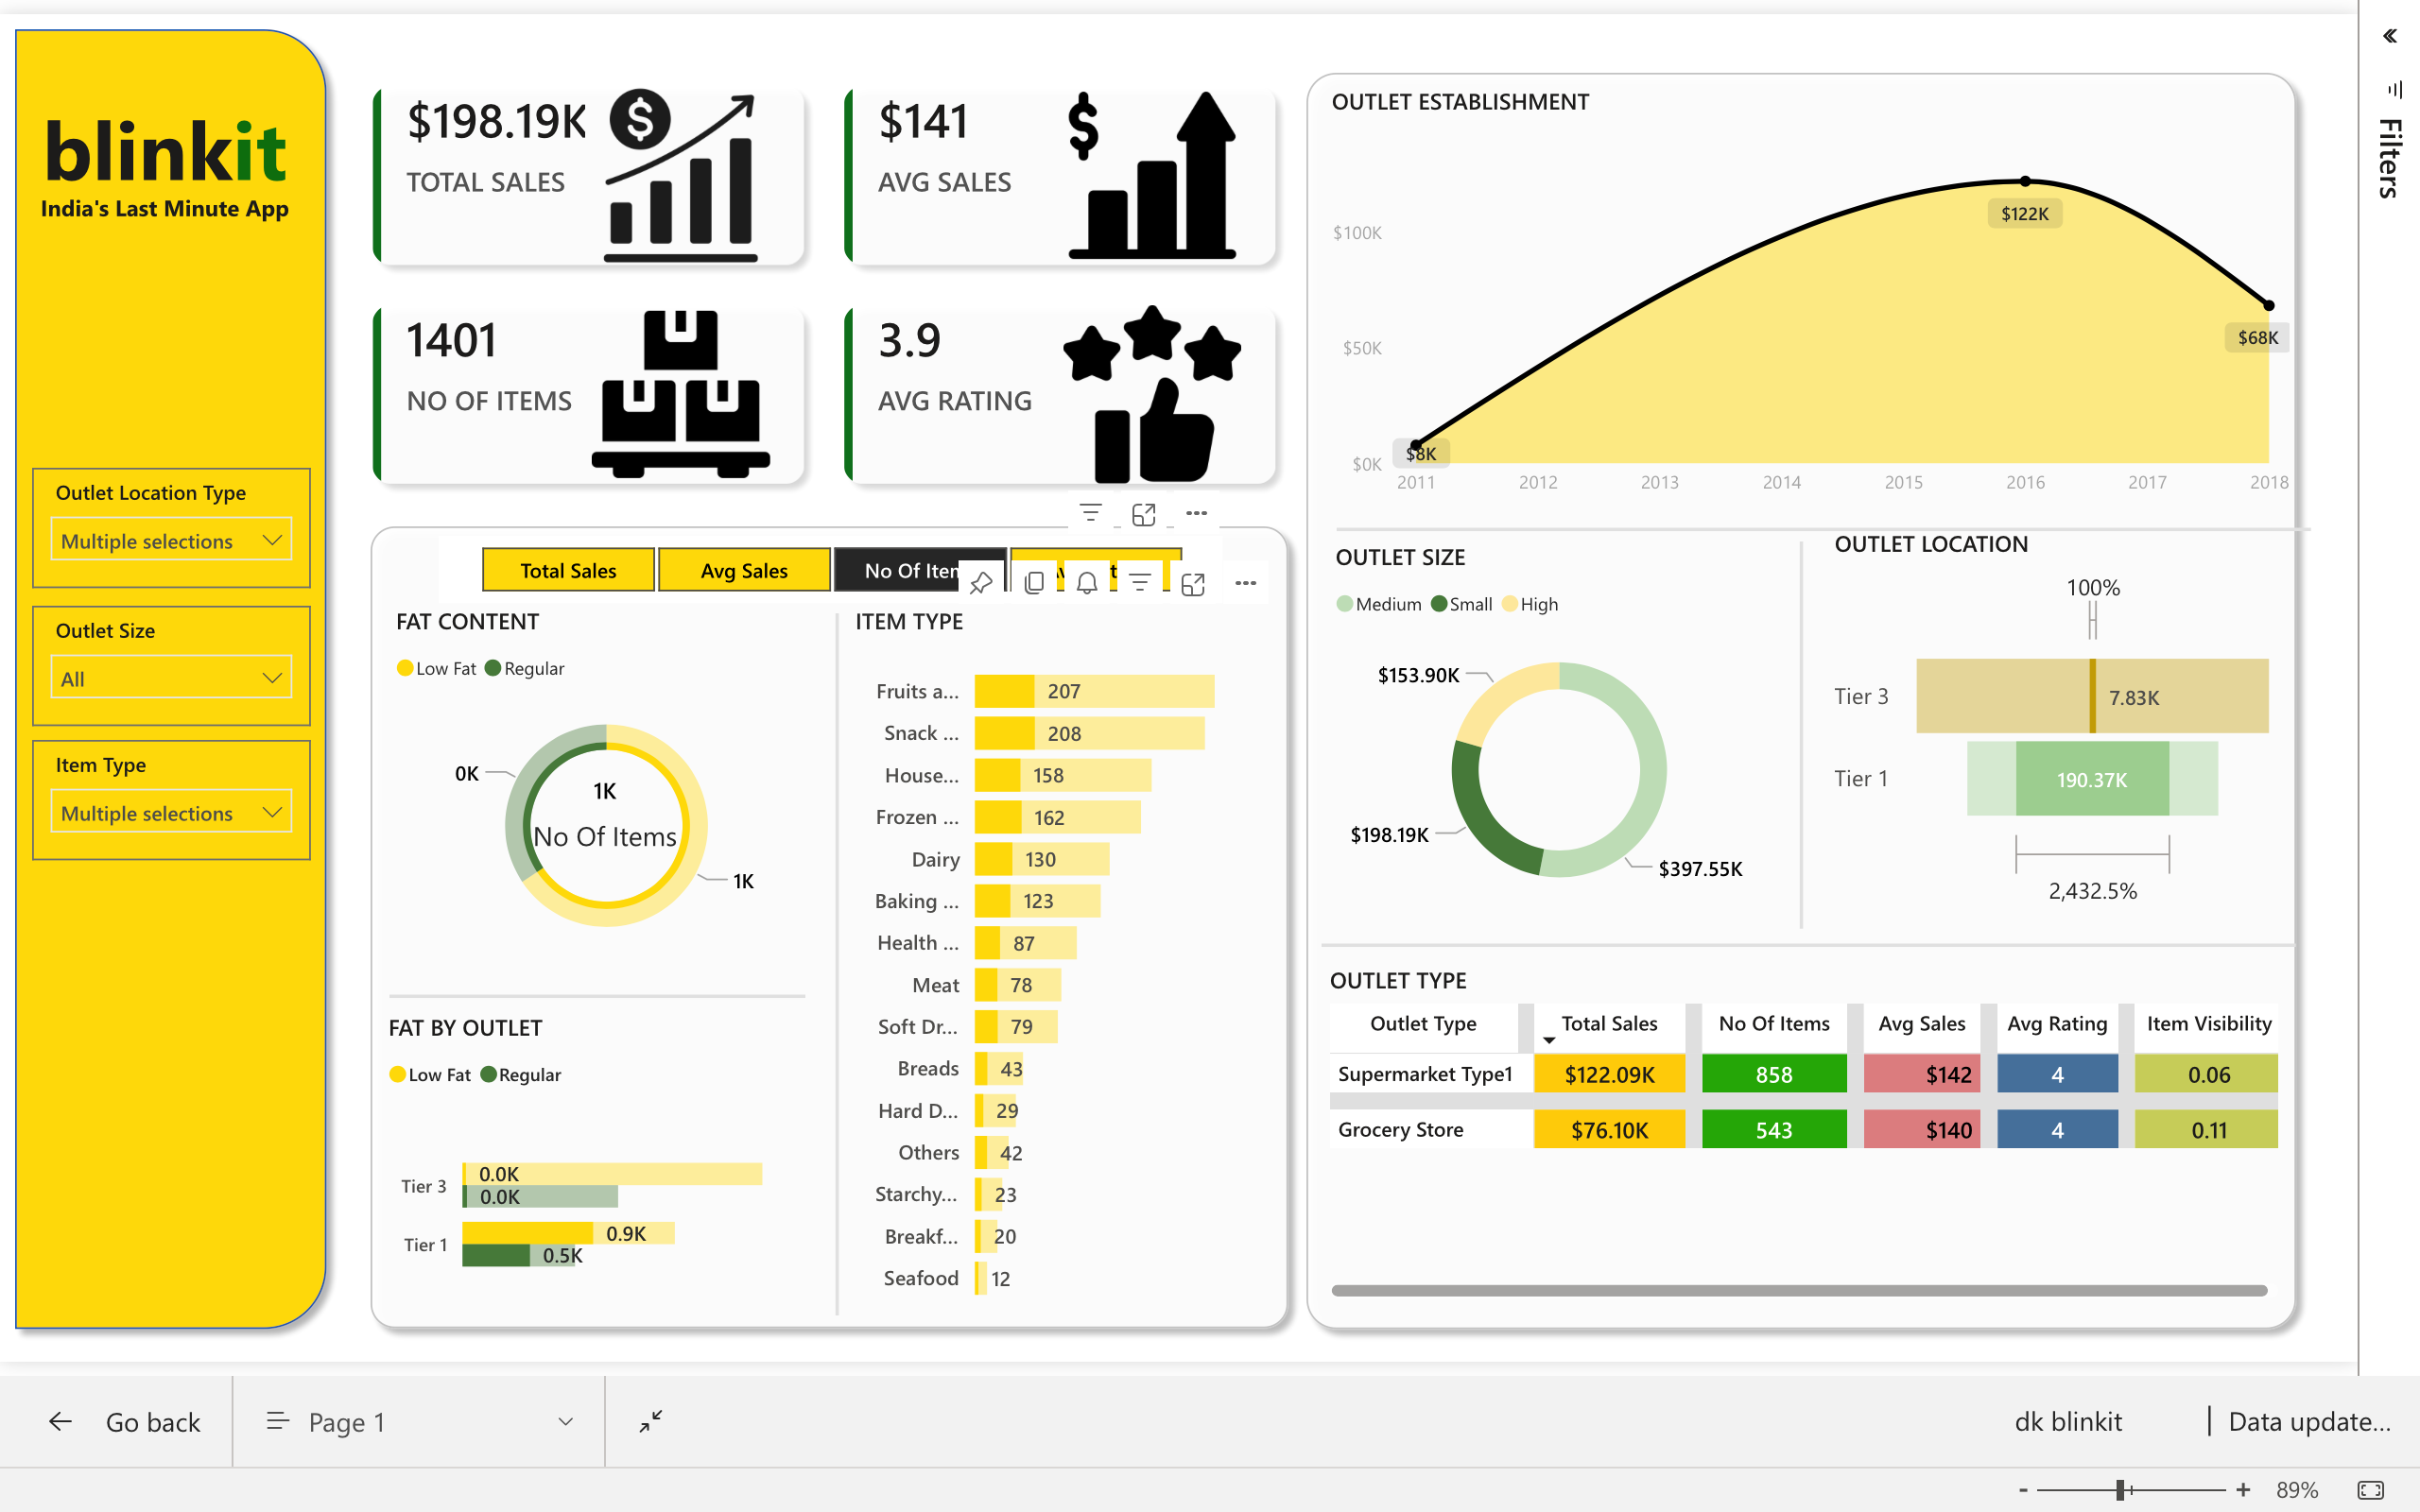

This screenshot's page, from the dashboard's own definition file:
{"tool":"powerbi","page":{"name":"Page 1","canvas":[1400,800],"ordinal":0},"visuals":[{"type":"shape","box":[0,0,202.9,790],"z":0},{"type":"textbox","box":[0,41.4,195.7,75.7],"z":1000},{"type":"textbox","box":[18.6,101.4,174.3,32.9],"z":2000},{"type":"cardVisual","fields":{"Data":["BlinkIT Grocery Data.Total Sales","BlinkIT Grocery Data.Avg Sales","BlinkIT Grocery Data.No Of Items","BlinkIT Grocery Data.Avg Rating"]},"box":[204.3,25.7,570,270],"z":3000},{"type":"shape","box":[211.4,295.7,562.9,494.3],"z":4000},{"type":"donutChart","title":"FAT CONTENT","fields":{"Y":["BlinkIT Grocery Data.No Of Items"],"Category":["BlinkIT Grocery Data.Item Fat Content"]},"box":[230,351.4,260,215.7],"z":5000},{"type":"slicer","fields":{"Values":["Metrics.Metrics"]},"box":[260,310,465.7,40],"z":6000},{"type":"cardVisual","fields":{"Data":["BlinkIT Grocery Data.No Of Items"]},"box":[295.7,431.4,128.6,87.1],"z":7000},{"type":"clusteredBarChart","title":"FAT BY OUTLET","fields":{"Y":["BlinkIT Grocery Data.No Of Items"],"Category":["BlinkIT Grocery Data.Outlet Location Type"],"Series":["BlinkIT Grocery Data.Item Fat Content"]},"box":[225.7,592.9,260,188.6],"z":8000},{"type":"shape","box":[231.4,542.9,247.1,80],"z":9000},{"type":"shape","box":[477.1,355.7,40,417.1],"z":10000},{"type":"barChart","title":"ITEM TYPE","fields":{"Y":["BlinkIT Grocery Data.No Of Items"],"Category":["BlinkIT Grocery Data.Item Type"]},"box":[502.9,351.4,251.4,424.3],"z":11000},{"type":"shape","box":[767.1,25.7,605.7,764.3],"z":12000},{"type":"lineChart","title":"OUTLET ESTABLISHMENT ","fields":{"Category":["BlinkIT Grocery Data.Outlet Establishment Year"],"Y":["BlinkIT Grocery Data.Total Sales"]},"box":[785.7,42.9,578.6,252.9],"z":13000},{"type":"shape","box":[794.3,265.7,578.6,80],"z":14000},{"type":"donutChart","title":"OUTLET SIZE","fields":{"Y":["BlinkIT Grocery Data.Total Sales"],"Category":["BlinkIT Grocery Data.Outlet Size"]},"box":[788.6,312.9,275.7,225.7],"z":15000},{"type":"shape","box":[1050,312.9,40,230],"z":16000},{"type":"funnel","title":"OUTLET LOCATION","fields":{"Y":["Sum(BlinkIT Grocery Data.Sales)"],"Category":["BlinkIT Grocery Data.Outlet Location Type"]},"box":[1084.3,305.7,272.9,230],"z":17000},{"type":"shape","box":[784.3,512.9,578.6,80],"z":18000},{"type":"pivotTable","title":"OUTLET TYPE","fields":{"Rows":["BlinkIT Grocery Data.Outlet Type"],"Values":["BlinkIT Grocery Data.Total Sales","BlinkIT Grocery Data.No Of Items","BlinkIT Grocery Data.Avg Sales","BlinkIT Grocery Data.Avg Rating","Avg(BlinkIT Grocery Data.Item Visibility)"]},"box":[784.3,564.3,572.9,202.9],"z":19000},{"type":"slicer","fields":{"Values":["BlinkIT Grocery Data.Outlet Size"]},"box":[18.6,351.4,165.7,71.4],"z":20000},{"type":"slicer","fields":{"Values":["BlinkIT Grocery Data.Item Type"]},"box":[18.6,431.4,165.7,71.4],"z":21000},{"type":"slicer","fields":{"Values":["BlinkIT Grocery Data.Outlet Location Type"]},"box":[18.6,270,165.7,71.4],"z":22000}]}

Visuals, with their boxes on the page's 1400x800 design canvas (x1, y1, x2, y2). These are canvas units, not pixel positions in the 2420x1512 screenshot, which may show the page scaled, cropped or inside an application window:
shape: 0/0/203/790
textbox: 0/41/196/117
textbox: 19/101/193/134
cardVisual - BlinkIT Grocery Data.Total Sales x BlinkIT Grocery Data.Avg Sales: 204/26/774/296
shape: 211/296/774/790
"FAT CONTENT" donutChart: 230/351/490/567
slicer - Metrics.Metrics: 260/310/726/350
cardVisual - BlinkIT Grocery Data.No Of Items: 296/431/424/518
"FAT BY OUTLET" clusteredBarChart: 226/593/486/782
shape: 231/543/478/623
shape: 477/356/517/773
"ITEM TYPE" barChart: 503/351/754/776
shape: 767/26/1373/790
"OUTLET ESTABLISHMENT " lineChart: 786/43/1364/296
shape: 794/266/1373/346
"OUTLET SIZE" donutChart: 789/313/1064/539
shape: 1050/313/1090/543
"OUTLET LOCATION" funnel: 1084/306/1357/536
shape: 784/513/1363/593
"OUTLET TYPE" pivotTable: 784/564/1357/767
slicer - BlinkIT Grocery Data.Outlet Size: 19/351/184/423
slicer - BlinkIT Grocery Data.Item Type: 19/431/184/503
slicer - BlinkIT Grocery Data.Outlet Location Type: 19/270/184/341
